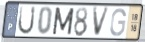0: (37, 6, 53, 36)
8: (72, 6, 90, 38)
G: (109, 8, 127, 38)
M: (51, 7, 76, 37)
U: (17, 5, 37, 36)
V: (92, 6, 111, 38)
